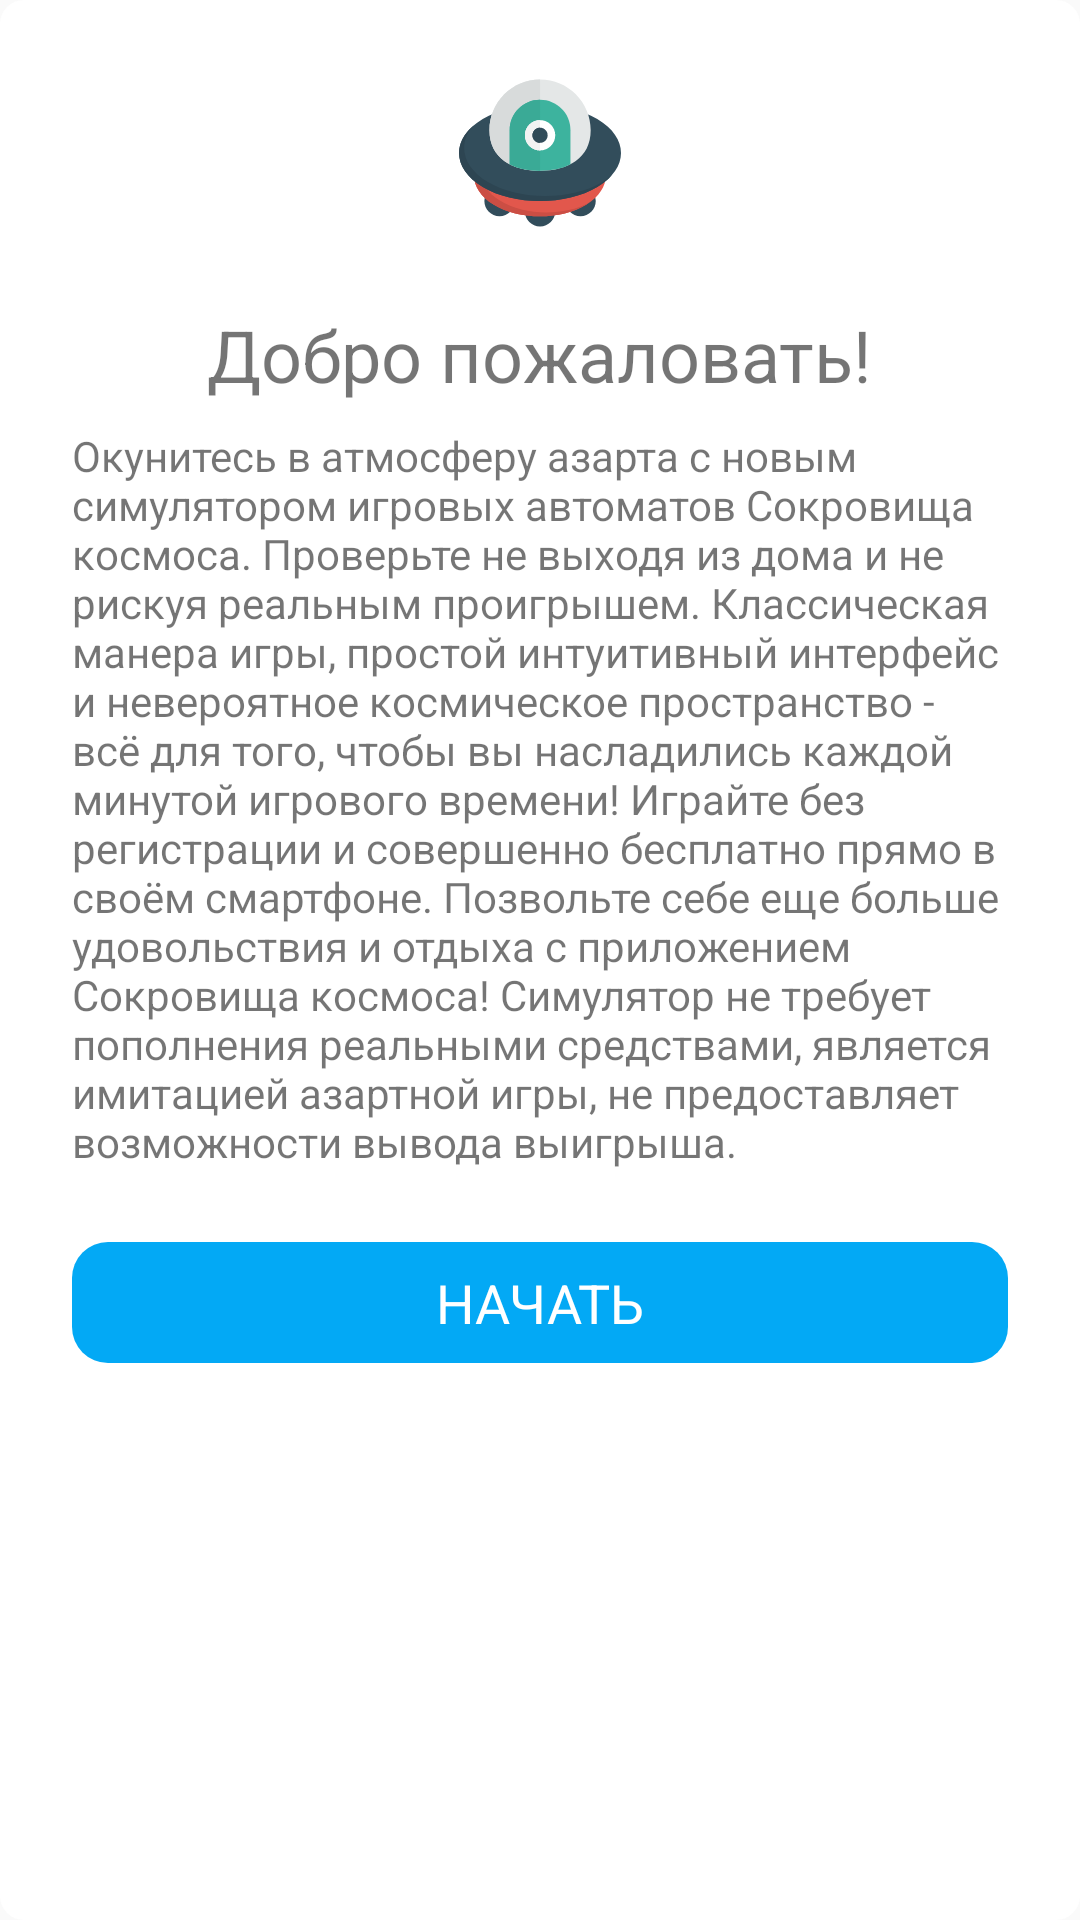

Where to tap for icons on this 1080×1920 app screen, as [x,y]:
spaceship: [540,153]
